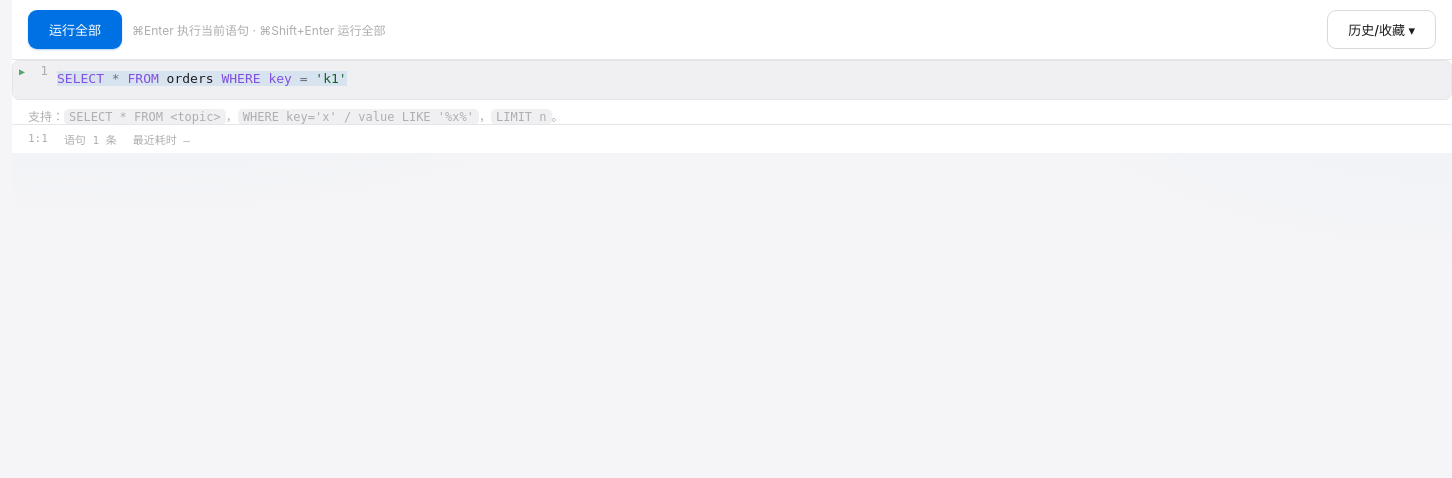
SqlConsole › runs a query and applies a WHERE key filter
This screenshot has width=1452, height=478.
Click the button with test id "btn-run" at coordinates (75, 30), box [28,10,122,49]
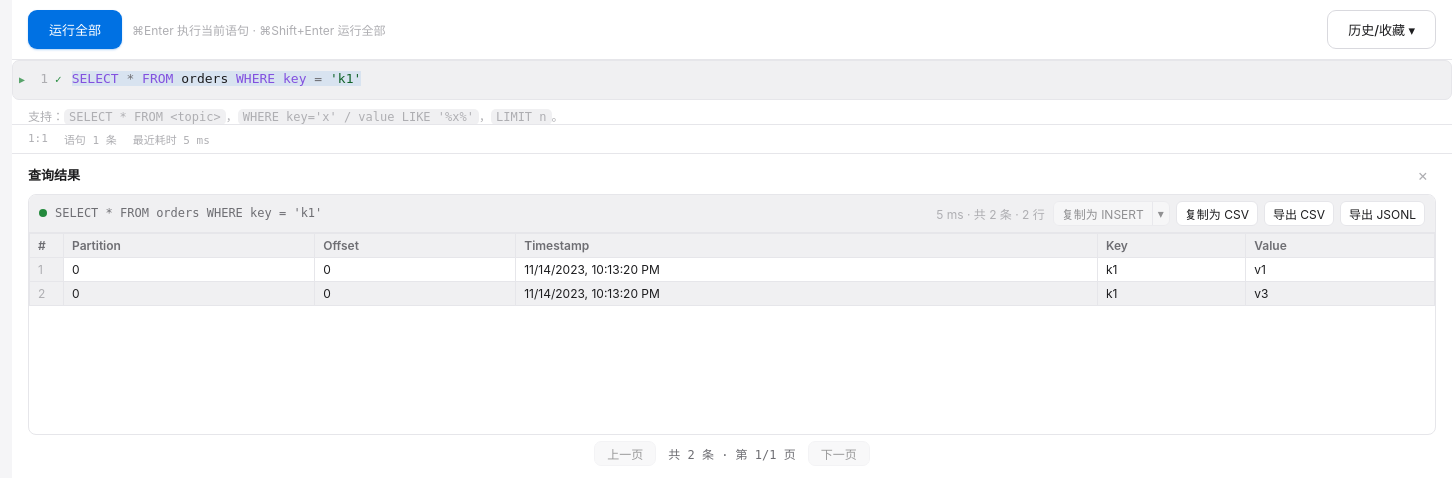
Expected: the element that starts with "SELECT * FROM orders WHERE key = 'k1'" is shown, [28,194,1436,434]
